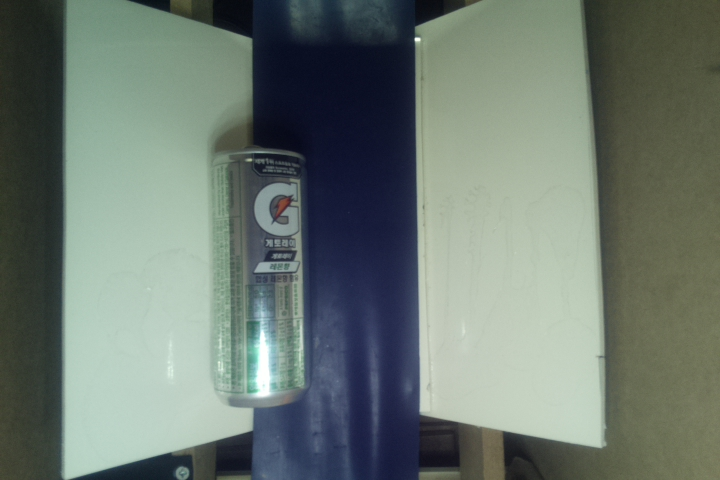can: (213, 147, 308, 407)
